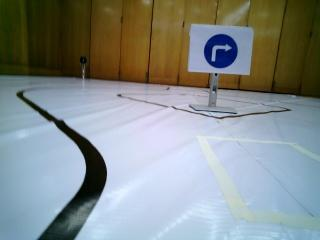right: (196, 25, 250, 75)
